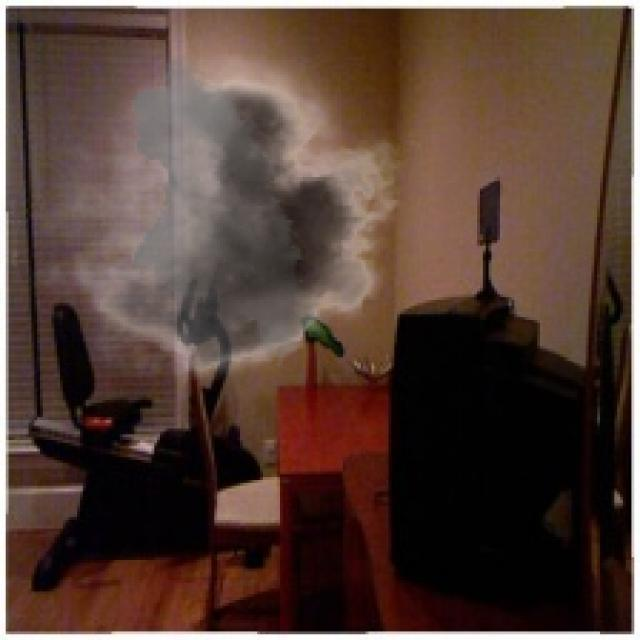Smoke: (28, 54, 420, 397)
